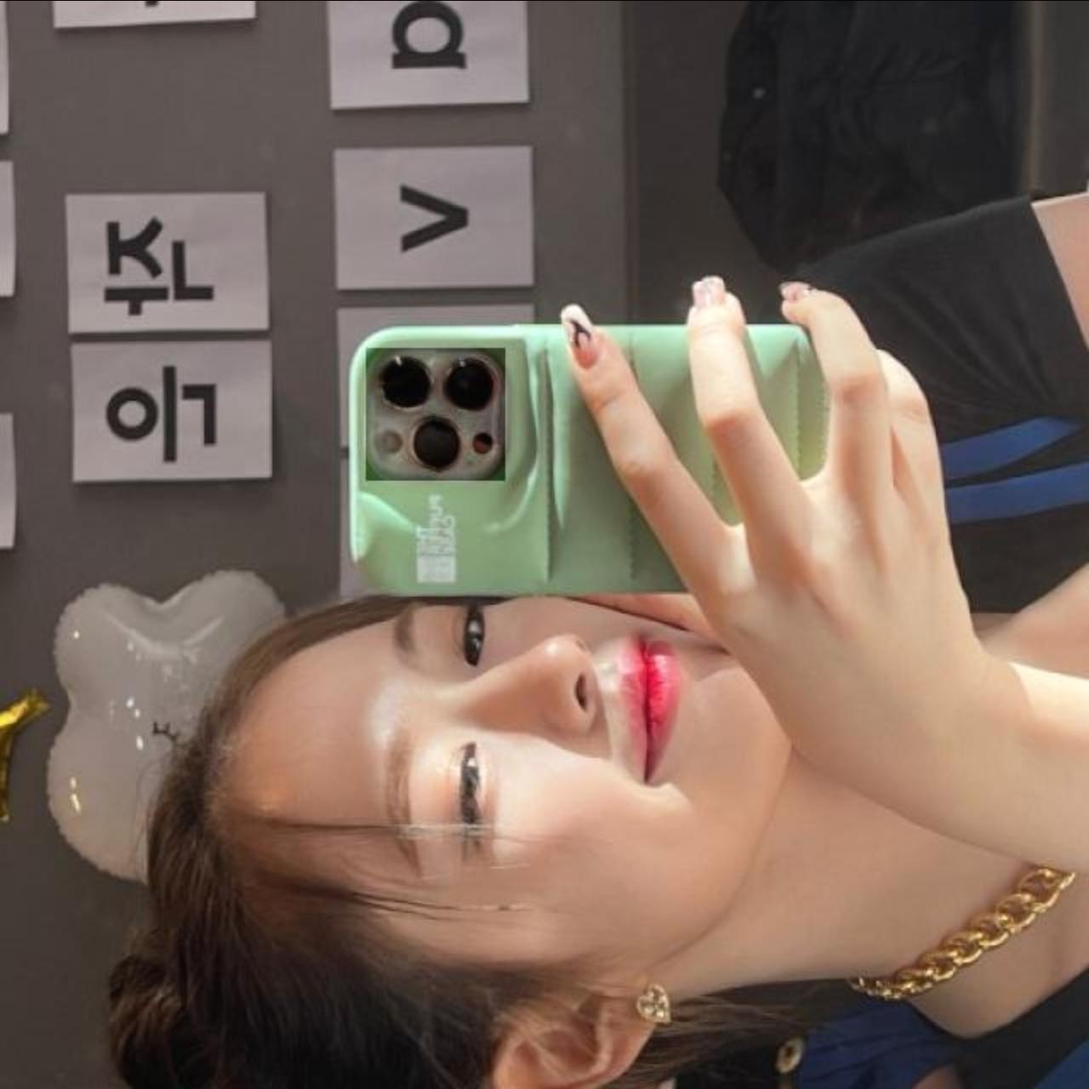phone: (340, 308, 834, 602)
